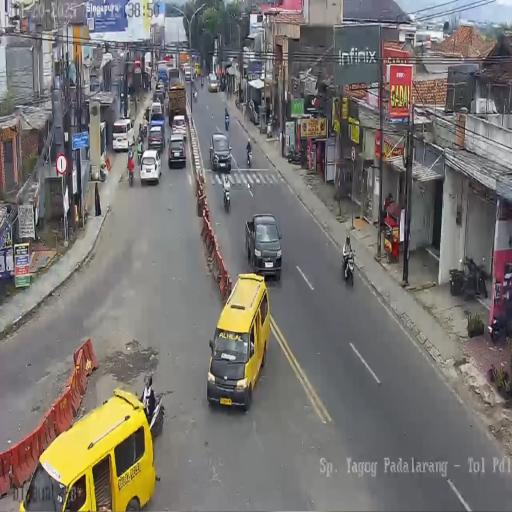car: (18, 389, 160, 510), (205, 274, 270, 409), (246, 213, 282, 281), (210, 132, 232, 172), (139, 149, 162, 186), (112, 118, 136, 152), (168, 134, 187, 168), (148, 120, 165, 152), (150, 100, 163, 120), (207, 72, 219, 92), (155, 81, 166, 96), (184, 66, 193, 82), (195, 63, 200, 76)
motorcycle: (462, 255, 486, 299), (489, 307, 509, 341), (342, 246, 354, 288), (286, 147, 302, 165), (223, 185, 230, 210), (127, 164, 134, 186), (141, 123, 147, 138), (193, 90, 197, 102), (225, 119, 229, 131), (200, 76, 204, 87)
truck: (168, 80, 187, 127), (144, 51, 153, 76)
